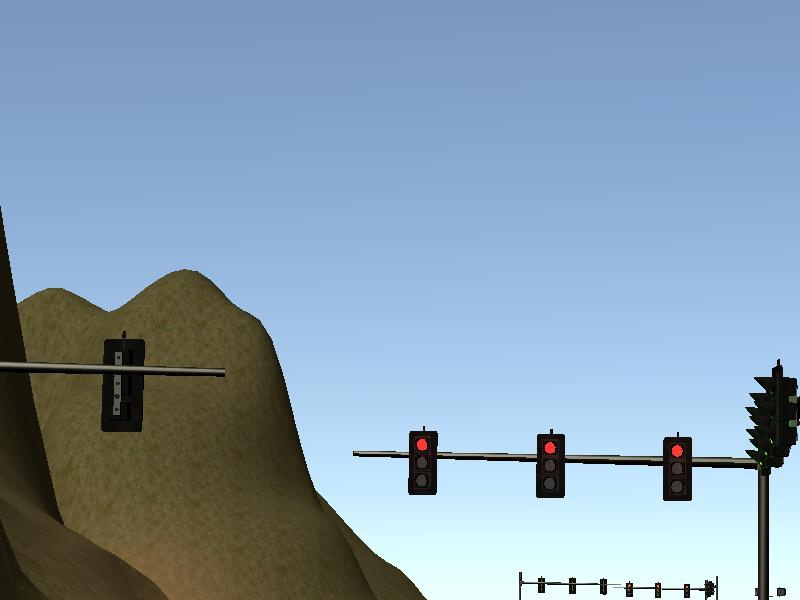red_light: (409, 433, 436, 494), (664, 439, 691, 500), (540, 434, 563, 495)
